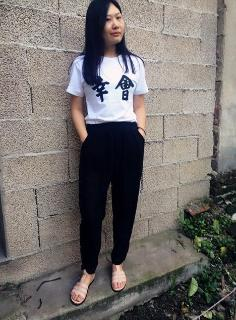short sleeve top: (66, 49, 150, 126)
trousers: (79, 121, 145, 274)
